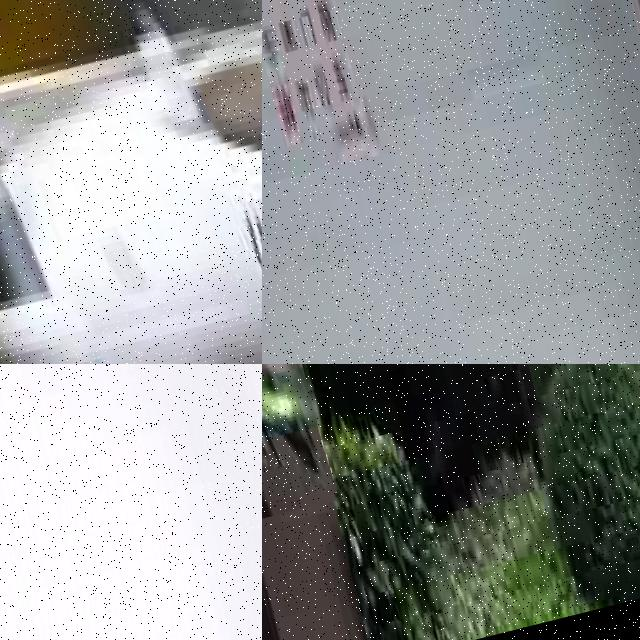0: (262, 364, 335, 538)
drone: (0, 0, 262, 364)
